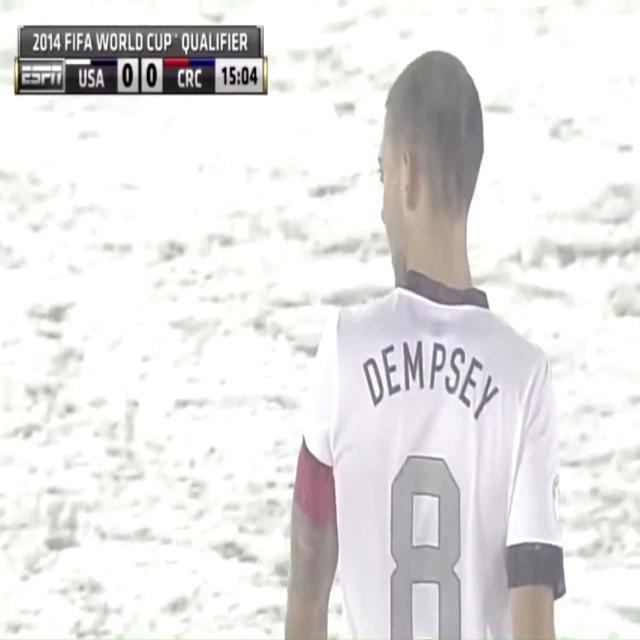player: (249, 0, 571, 640)
